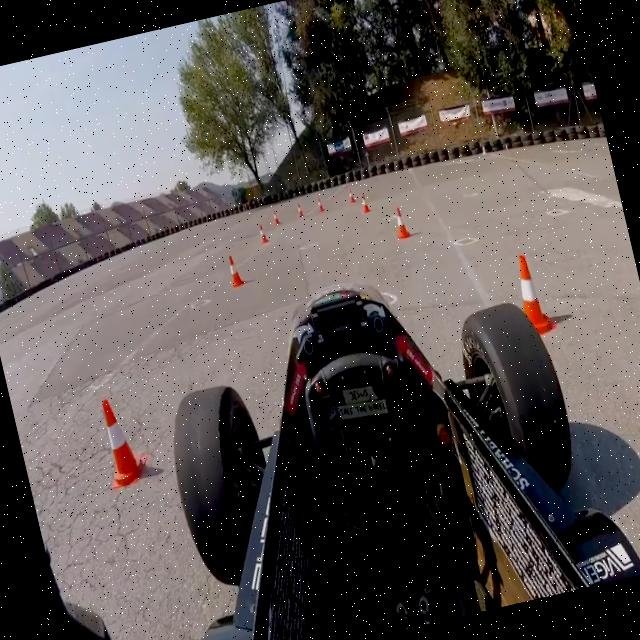orange_cone: (90, 392, 150, 492), (508, 249, 556, 338), (388, 203, 412, 240), (223, 252, 246, 290), (256, 222, 270, 244), (359, 192, 372, 215), (346, 185, 356, 204), (272, 208, 282, 226), (316, 195, 325, 212), (295, 201, 304, 218)
